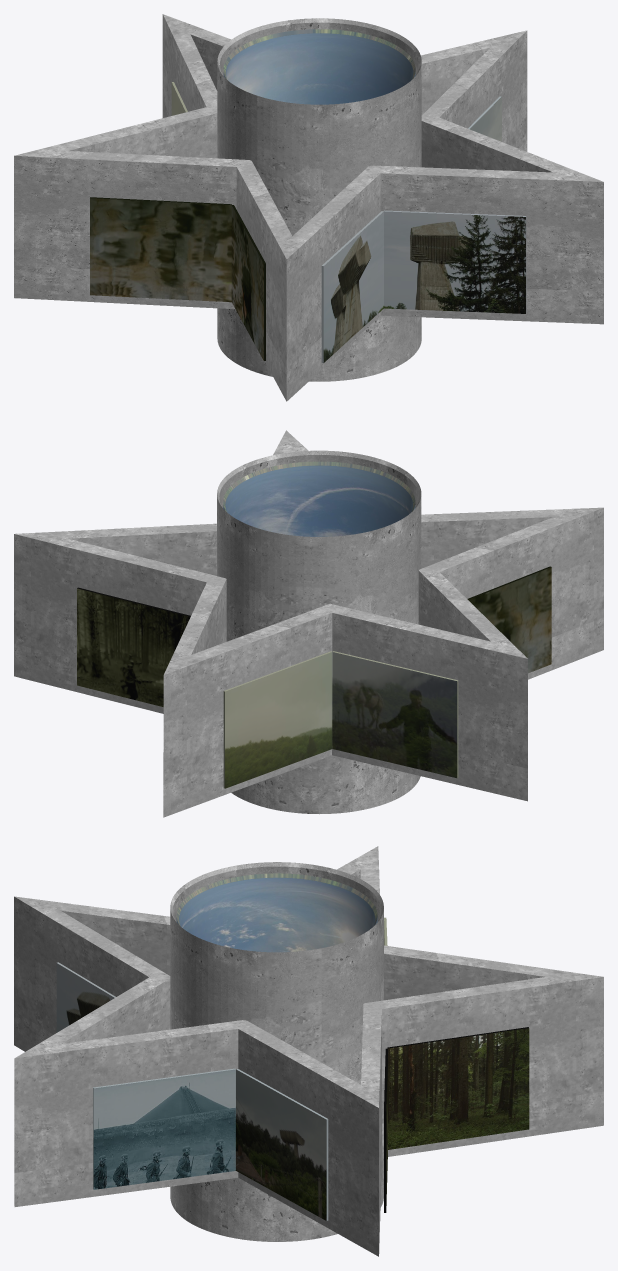
File: nis.glb
3 renders of one model, top to bottom at view 1: azimuth 30°, elevation 25°; view 2: azimuth 150°, elevation 25°; view 3: azimuth 270°, elevation 25°, orthographic. The views are drawn at different scales.
Parts seen in each view (by area): view 1: TWE - 3D-Ansicht - 3D-Ansicht 4.001, Cylinder.002, videotarget, mostar, Cylinder.001, mitrovica; view 2: TWE - 3D-Ansicht - 3D-Ansicht 4.001, Cylinder.002, tjentiste, Cylinder.001, kozara, mostar; view 3: TWE - 3D-Ansicht - 3D-Ansicht 4.001, Cylinder.002, mitrovica, kozara, Cylinder.001, videotarget.
Boxes of the visible parts, x1,y1,x2,y2 form: TWE - 3D-Ansicht - 3D-Ansicht 4.001: (14,14,603,401); Cylinder.002: (217,18,421,381); videotarget: (321,210,526,363); mostar: (90,197,265,360); Cylinder.001: (223,29,415,104); mitrovica: (468,96,501,141); TWE - 3D-Ansicht - 3D-Ansicht 4.001: (14,430,603,817); Cylinder.002: (217,450,421,814); tjentiste: (223,651,458,788); Cylinder.001: (223,461,415,536); kozara: (77,587,190,706); mostar: (467,566,551,673); TWE - 3D-Ansicht - 3D-Ansicht 4.001: (14,846,603,1256); Cylinder.002: (170,862,383,1241); mitrovica: (93,1068,328,1220); kozara: (384,1027,529,1212); Cylinder.001: (176,873,377,952); videotarget: (56,962,115,1032).
Bounding box in the file's own units: 13.96 × 7.2 × 13.28.
Materials: 8 (8 with a texture image).
